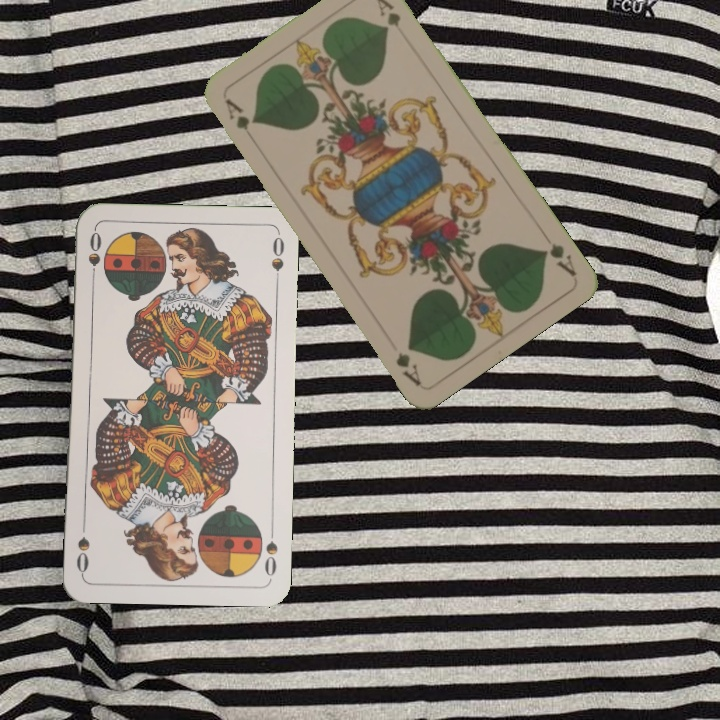GA: (221, 94, 260, 147), (537, 239, 579, 279)
SO: (84, 227, 104, 287), (261, 522, 280, 579)
